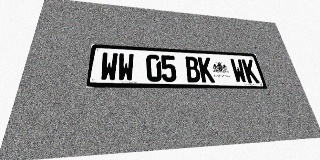0: (146, 54, 162, 82)
5: (161, 55, 177, 82)
B: (184, 56, 201, 82)
K: (197, 57, 215, 83), (241, 59, 260, 83)
W: (99, 52, 118, 81), (117, 53, 134, 81), (229, 58, 248, 83)
